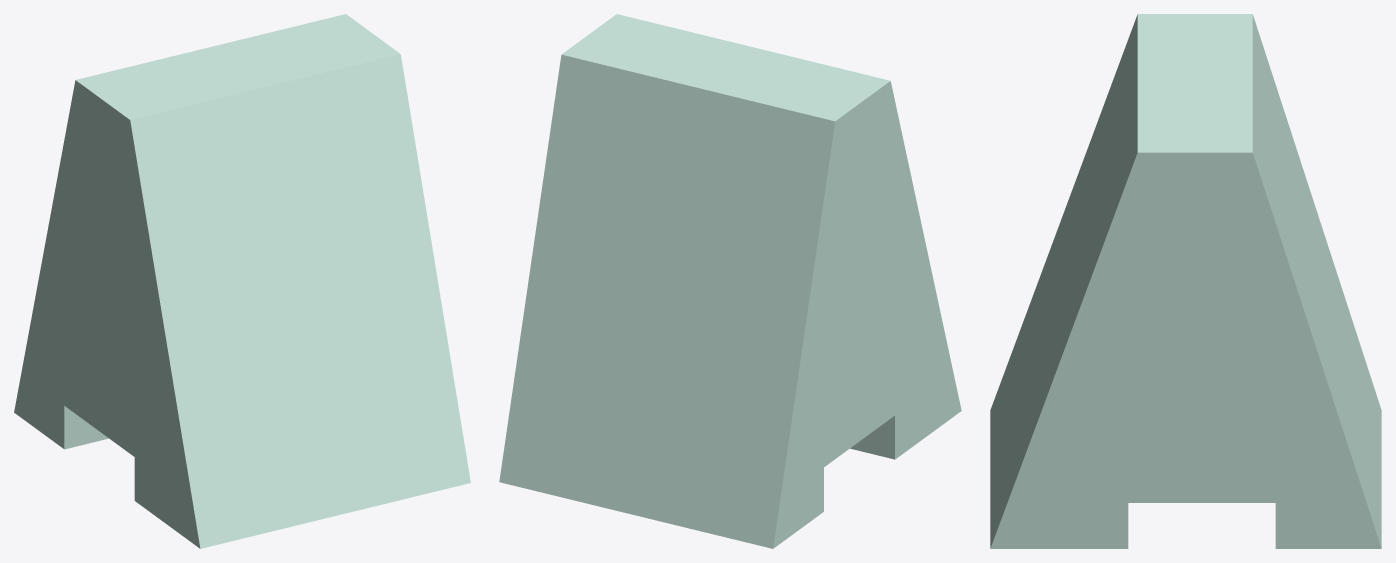
3 views of the same model, side by side, from view 1: azimuth 30°, elevation 25°; view 2: azimuth 150°, elevation 25°; view 3: azimuth 270°, elevation 25° (orthographic). The views are drawn at different scales.
Parts seen in each view (by area): view 1: Renderer Node; view 2: Renderer Node; view 3: Renderer Node.
Boxes of the visible parts, left/top/right/bottom form: Renderer Node: left=14, top=14, right=470, bottom=548; Renderer Node: left=499, top=14, right=961, bottom=548; Renderer Node: left=990, top=14, right=1381, bottom=548.
Bounding box in the file's own units: 0.5625 × 0.75 × 0.6711.
